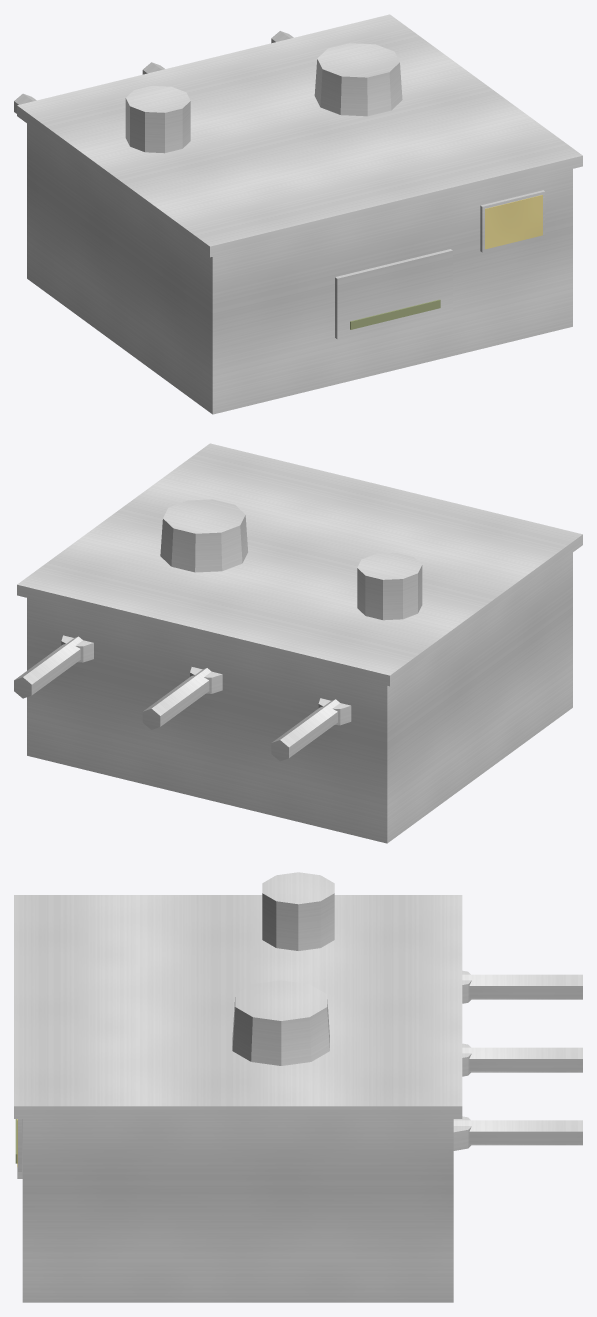
The model's file is paste_dispenser.obj.
3 renders of one model, top to bottom at view 1: azimuth 30°, elevation 25°; view 2: azimuth 150°, elevation 25°; view 3: azimuth 270°, elevation 25°, orthographic. The views are drawn at different scales.
Visible parts, largest first — view 1: paste_dispenser; view 2: paste_dispenser; view 3: paste_dispenser.
Boxes of the visible parts, <box> form: paste_dispenser: <box>14,14,582,414</box>; paste_dispenser: <box>14,443,582,843</box>; paste_dispenser: <box>14,872,582,1302</box>.
Size of the model in its own units: 2.9 by 1.58 by 3.3.
